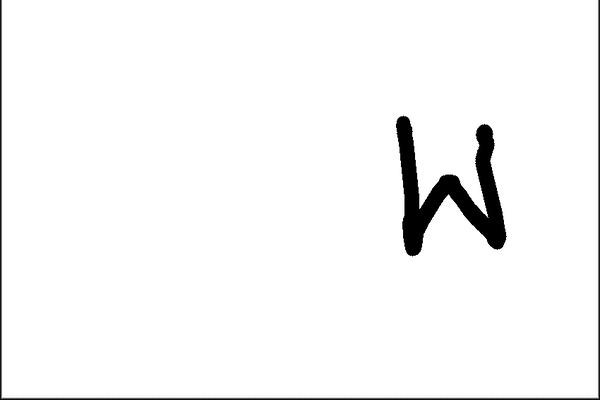w: (383, 102, 516, 263)
